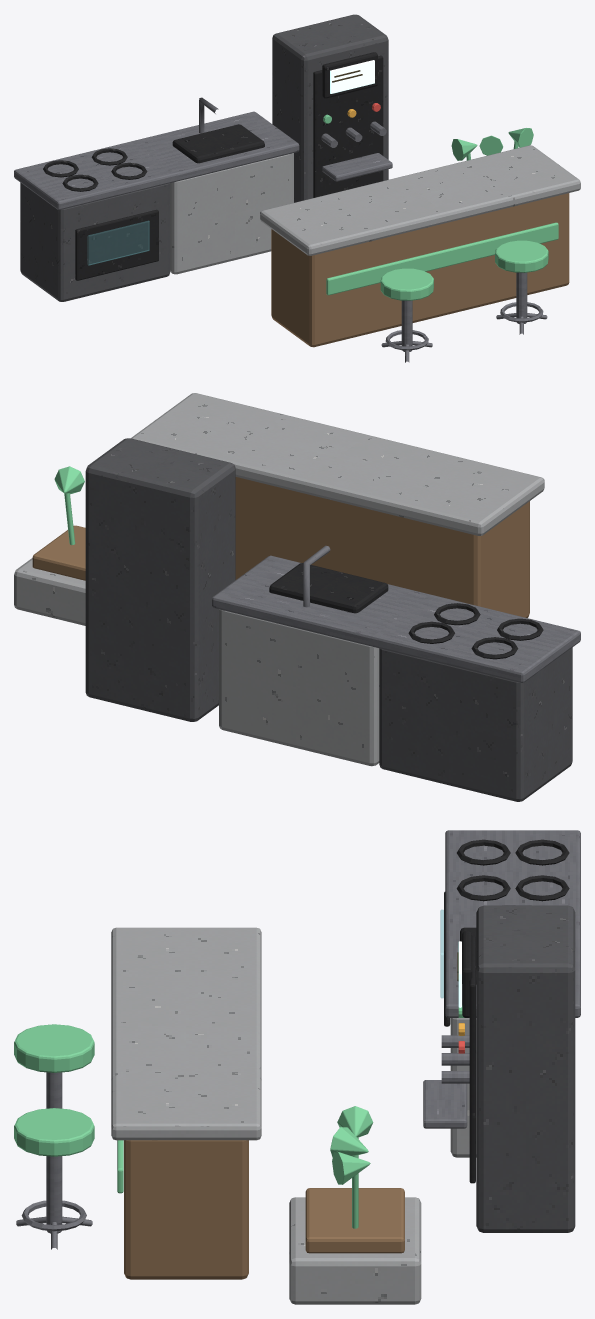
The model's file is department_service_dressing.glb.
3 views of the same model, one above another, from view 1: azimuth 30°, elevation 25°; view 2: azimuth 150°, elevation 25°; view 3: azimuth 270°, elevation 25° (orthographic). The views are drawn at different scales.
Parts seen in each view (by area): view 1: DEPT_Service__Bar_Base, DEPT_Service__Bar_Top, DEPT_Service__Sink_Cabinet, DEPT_Service__Range_Body, DEPT_Service__Drink_Dispenser, DEPT_Service__Drink_Dispenser_Face, DEPT_Service__Range_Top, DEPT_Service__Oven_Door, DEPT_Service__Sink_Top, DEPT_Service__Bar_Accent, DEPT_Service__Sink_Basin, DEPT_Service__Oven_Window (+7 smaller); view 2: DEPT_Service__Drink_Dispenser, DEPT_Service__Bar_Top, DEPT_Service__Range_Body, DEPT_Service__Bar_Base, DEPT_Service__Sink_Cabinet, DEPT_Service__Range_Top, DEPT_Service__Sink_Top, DEPT_Service__Sink_Basin, DEPT_Service__Hydro_Tray, DEPT_Service__Hydro_Soil, DEPT_Service__Plant_Leaf_3, DEPT_Service__Burner_1 (+3 smaller); view 3: DEPT_Service__Drink_Dispenser, DEPT_Service__Bar_Top, DEPT_Service__Bar_Base, DEPT_Service__Hydro_Tray, DEPT_Service__Range_Top, DEPT_Service__Hydro_Soil, DEPT_Service__Bar_Stool_Left_Seat, DEPT_Service__Bar_Stool_Right_Seat, DEPT_Service__Sink_Top, DEPT_Service__Drink_Tray, DEPT_Service__Drink_Dispenser_Face, DEPT_Service__Sink_Cabinet (+11 smaller).
Part boxes in pixels (<box>): DEPT_Service__Bar_Base: <box>271,193,569,347</box>; DEPT_Service__Bar_Top: <box>260,145,580,255</box>; DEPT_Service__Sink_Cabinet: <box>170,153,293,274</box>; DEPT_Service__Range_Body: <box>20,182,169,301</box>; DEPT_Service__Drink_Dispenser: <box>272,14,388,202</box>; DEPT_Service__Drink_Dispenser_Face: <box>313,55,383,197</box>; DEPT_Service__Range_Top: <box>14,141,175,209</box>; DEPT_Service__Oven_Door: <box>75,209,158,280</box>; DEPT_Service__Sink_Top: <box>131,111,299,181</box>; DEPT_Service__Bar_Accent: <box>326,222,558,295</box>; DEPT_Service__Sink_Basin: <box>172,124,264,163</box>; DEPT_Service__Oven_Window: <box>87,220,149,265</box>; DEPT_Service__Drink_Dispenser: <box>85,438,235,721</box>; DEPT_Service__Bar_Top: <box>131,393,544,535</box>; DEPT_Service__Range_Body: <box>379,647,572,801</box>; DEPT_Service__Bar_Base: <box>235,477,529,617</box>; DEPT_Service__Sink_Cabinet: <box>219,609,379,766</box>; DEPT_Service__Range_Top: <box>372,594,580,682</box>; DEPT_Service__Sink_Top: <box>212,555,429,646</box>; DEPT_Service__Sink_Basin: <box>269,563,388,613</box>; DEPT_Service__Hydro_Tray: <box>14,558,85,625</box>; DEPT_Service__Hydro_Soil: <box>32,525,85,580</box>; DEPT_Service__Plant_Leaf_3: <box>54,466,84,494</box>; DEPT_Service__Burner_1: <box>497,618,543,640</box>; DEPT_Service__Drink_Dispenser: <box>476,905,575,1232</box>; DEPT_Service__Bar_Top: <box>111,927,261,1140</box>; DEPT_Service__Bar_Base: <box>124,1140,248,1279</box>; DEPT_Service__Hydro_Tray: <box>289,1197,421,1304</box>; DEPT_Service__Range_Top: <box>445,830,580,916</box>; DEPT_Service__Hydro_Soil: <box>305,1188,404,1253</box>; DEPT_Service__Bar_Stool_Left_Seat: <box>14,1024,94,1072</box>; DEPT_Service__Bar_Stool_Right_Seat: <box>14,1108,94,1156</box>; DEPT_Service__Sink_Top: <box>445,914,580,1017</box>; DEPT_Service__Drink_Tray: <box>423,1080,467,1128</box>; DEPT_Service__Drink_Dispenser_Face: <box>469,935,475,1183</box>; DEPT_Service__Sink_Cabinet: <box>450,1018,476,1157</box>.
Size of the model in its own units: 4.24 by 1.65 by 3.09.
11 materials, 4 textured.
